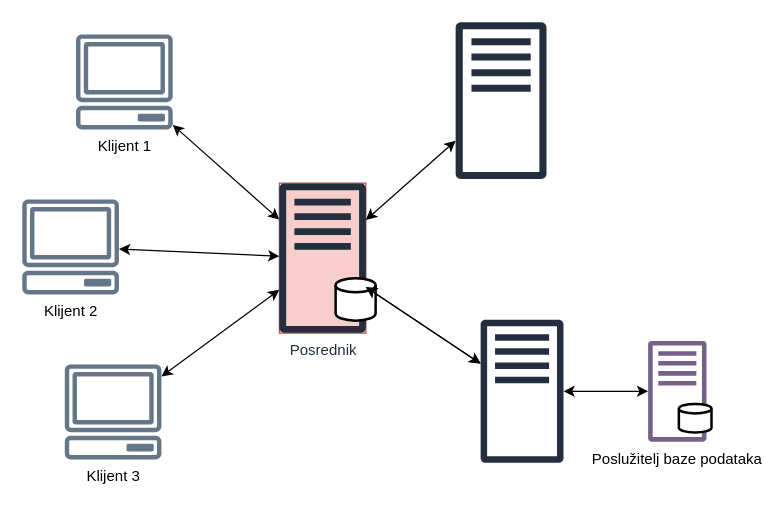
Image size: 784x510. Some labels were removed from this diagram. Each missing label, with the centre of its shape:
"Poslužitelj 1" goes at [500,100].
"Poslužitelj 2" goes at [521,390].
